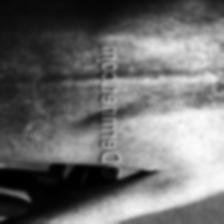Unclassified: (190, 67, 218, 89), (38, 72, 66, 92), (6, 125, 24, 144)
